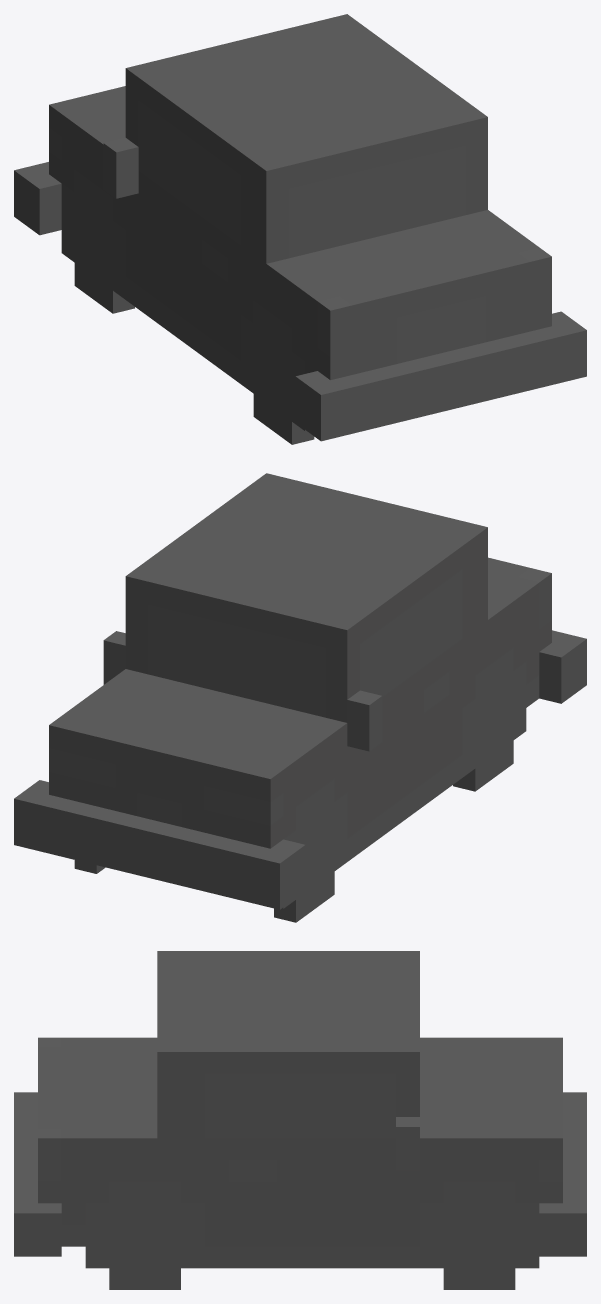
File: veh_mini1.obj
The picture shows the model from 3 angles, top to bottom: view 1: azimuth 30°, elevation 25°; view 2: azimuth 150°, elevation 25°; view 3: azimuth 270°, elevation 25°; orthographic projection. The views are drawn at different scales.
Size of the model in its own units: 12 by 11 by 24.
